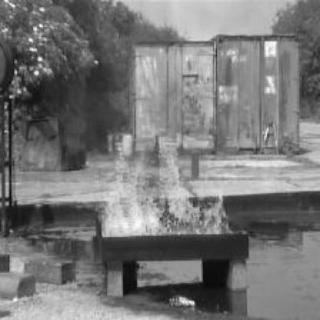Fire: (97, 137, 237, 237)
